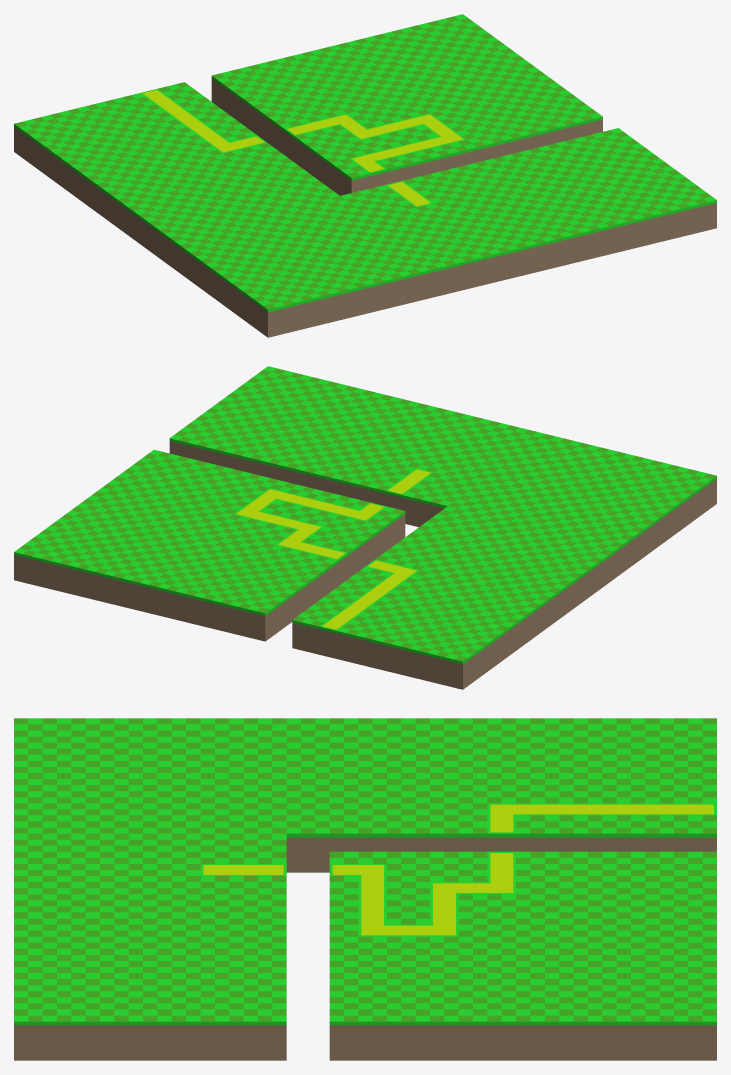
File: Map 01 - 2.fbx
3 renders of one model, top to bottom at view 1: azimuth 30°, elevation 25°; view 2: azimuth 150°, elevation 25°; view 3: azimuth 270°, elevation 25°, orthographic. The views are drawn at different scales.
Parts seen in each view (by area): view 1: Plane.002; view 2: Plane.002; view 3: Plane.002.
Part boxes in pixels (x1=…): Plane.002: x1=14, y1=14, x2=716, y2=337; Plane.002: x1=14, y1=366, x2=716, y2=689; Plane.002: x1=14, y1=718, x2=716, y2=1060.
Bounding box in the file's own units: 500 × 30 × 490.
